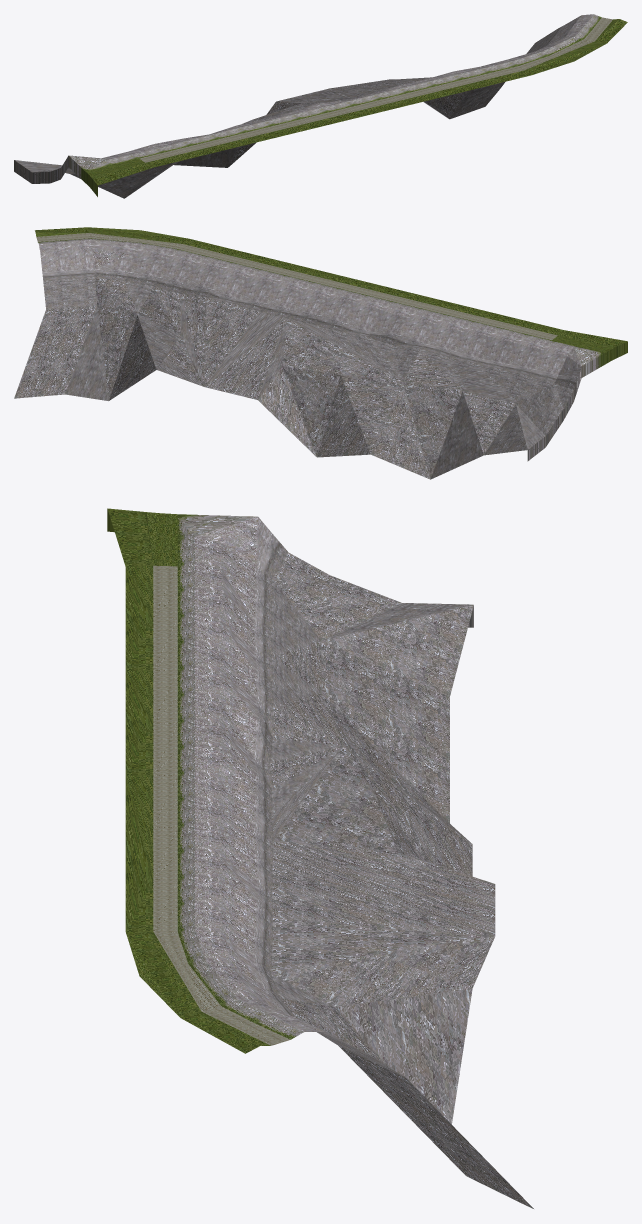
The model's file is lod_rock_coastsfw1.obj.
3 renders of one model, top to bottom at view 1: azimuth 30°, elevation 25°; view 2: azimuth 150°, elevation 25°; view 3: azimuth 270°, elevation 25°, orthographic. The views are drawn at different scales.
Parts seen in each view (by area): view 1: lod_rock_coastSFW1; view 2: lod_rock_coastSFW1; view 3: lod_rock_coastSFW1.
Part boxes in pixels (box(x1,y1,x2,y2)): lod_rock_coastSFW1: box(14, 14, 627, 198); lod_rock_coastSFW1: box(14, 227, 627, 479); lod_rock_coastSFW1: box(107, 508, 533, 1208).
Bounding box in the file's own units: 209 × 37.5 × 69.28.
6 materials, 6 textured.
